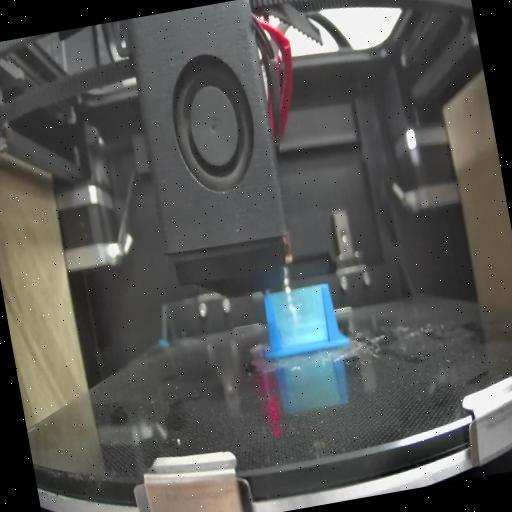stringing: (272, 285, 330, 352)
